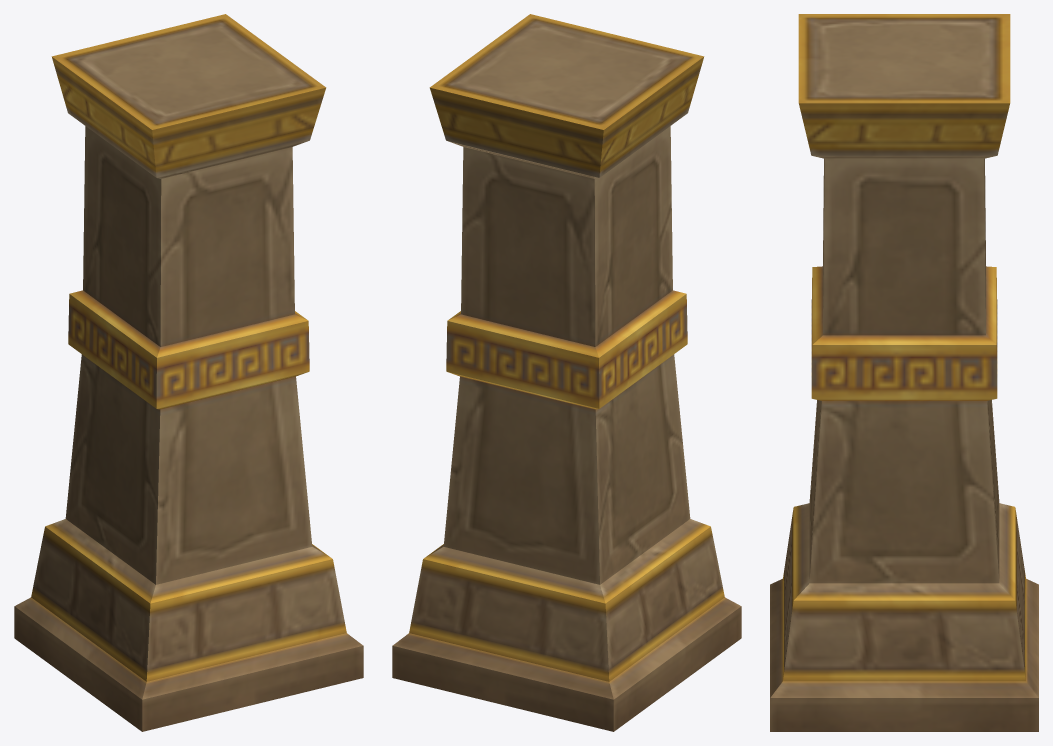
The model's file is desert_dungeon_prop_1.FBX.
3 renders of one model, left to right at view 1: azimuth 30°, elevation 25°; view 2: azimuth 150°, elevation 25°; view 3: azimuth 270°, elevation 25°, orthographic. The views are drawn at different scales.
Visible parts, largest first — view 1: Object021; view 2: Object021; view 3: Object021.
Part boxes in pixels (box(x1,y1,x2,y2)): Object021: box(14, 14, 363, 731); Object021: box(392, 14, 741, 731); Object021: box(770, 14, 1038, 731).
Size of the model in its own units: 28.03 by 28.03 by 70.96.
